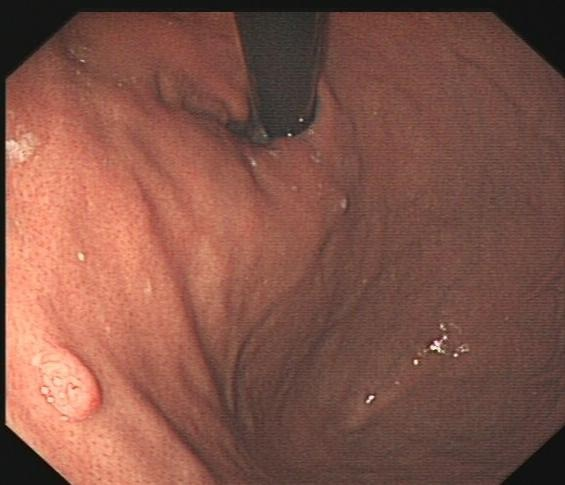Polyp: (43, 349, 107, 419)
